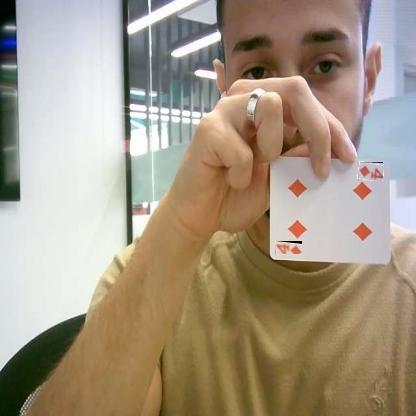4D: (358, 162, 383, 181), (275, 241, 302, 254)
